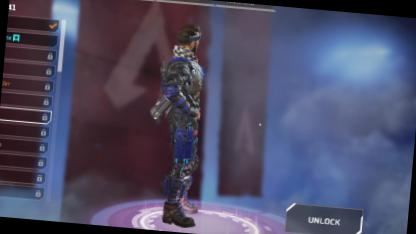Target: (158, 19, 212, 193)
